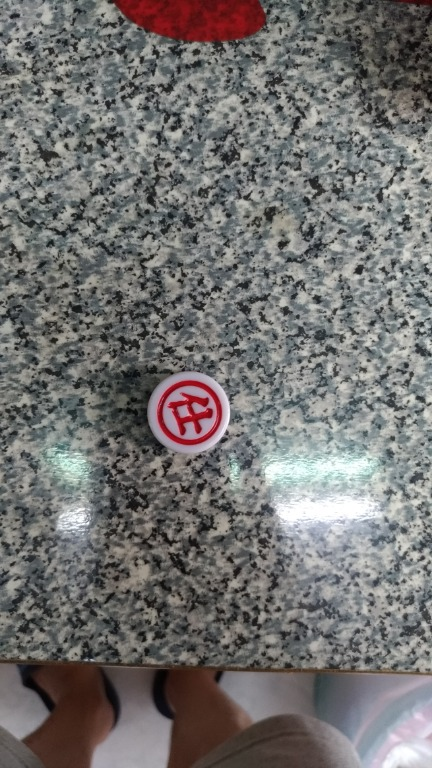r-advisor: (128, 368, 252, 462)
